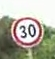limite 30: (9, 15, 44, 48)
